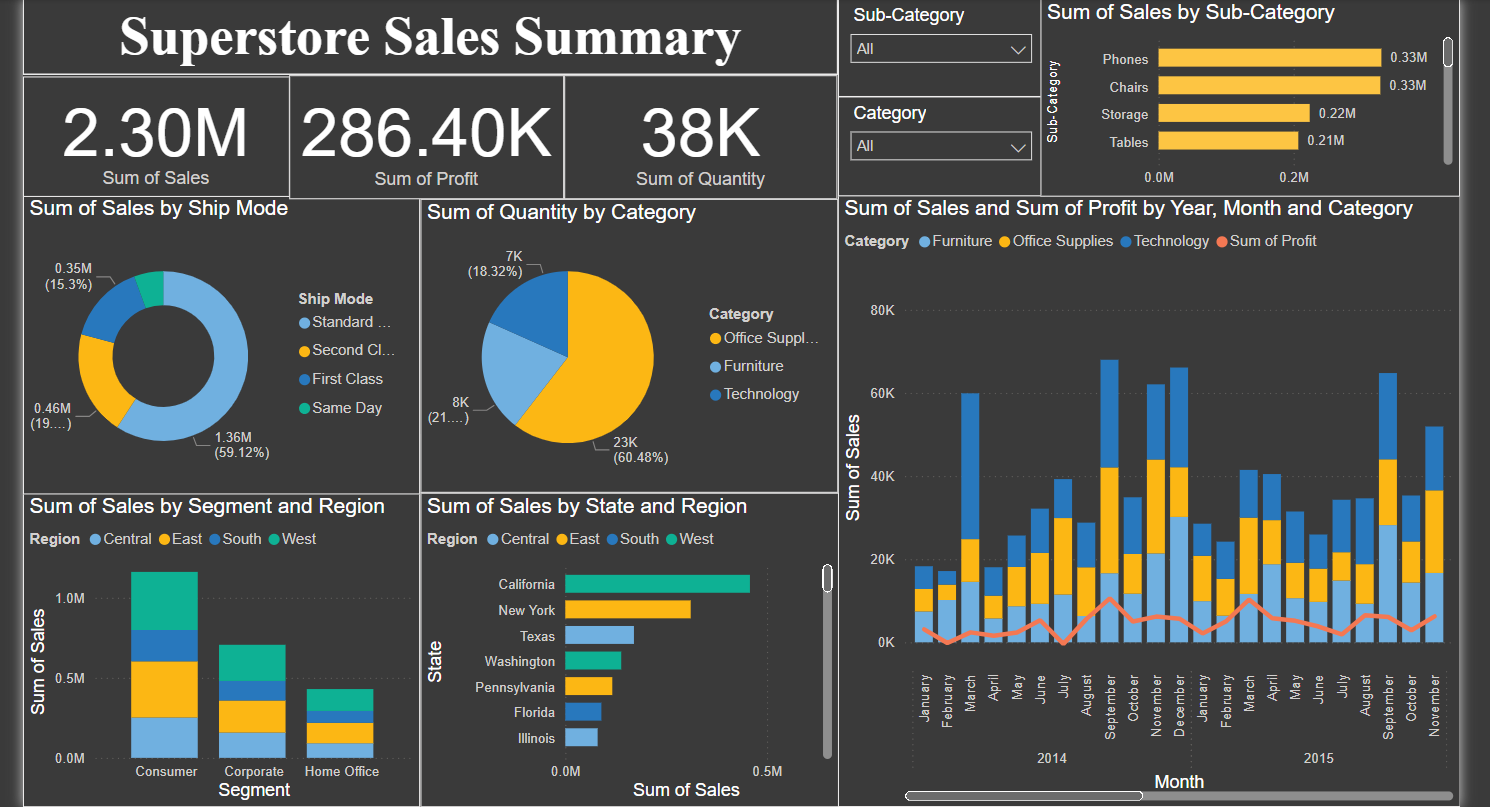

The page's visual inventory and layout, read from the dashboard file:
{"tool":"powerbi","page":{"name":"Page 1","canvas":[1280,720],"ordinal":0},"visuals":[{"type":"columnChart","fields":{"Category":["superstore(1).Segment"],"Y":["Sum(superstore(1).Sales)"],"Series":["superstore(1).Region"]},"box":[0,439.4,353.7,280.2],"z":0},{"type":"barChart","fields":{"Category":["superstore(1).State"],"Y":["Sum(superstore(1).Sales)"],"Series":["superstore(1).Region"]},"box":[353.7,439.4,373.6,280.2],"z":1000},{"type":"lineStackedColumnComboChart","fields":{"Series":["superstore(1).Category"],"Y2":["Sum(superstore(1).Profit)"],"Category":["superstore(1).Ship Date.Variation.Date Hierarchy.Year","superstore(1).Ship Date.Variation.Date Hierarchy.Month"],"Y":["Sum(superstore(1).Sales)"]},"box":[725.7,174.5,554.3,545.1],"z":2000},{"type":"donutChart","fields":{"Category":["superstore(1).Ship Mode"],"Y":["Sum(superstore(1).Sales)"]},"box":[0,174.5,353.7,266.4],"z":3000},{"type":"pieChart","fields":{"Category":["superstore(1).Category"],"Y":["Sum(superstore(1).Quantity)"]},"box":[353.7,177.6,372.1,261.8],"z":4000},{"type":"card","fields":{"Values":["Sum(superstore(1).Sales)"]},"box":[0,68.9,237.3,107.2],"z":5000},{"type":"card","fields":{"Values":["Sum(superstore(1).Profit)"]},"box":[237.3,67.4,245,110.2],"z":6000},{"type":"textbox","box":[0,0,725.7,67.4],"z":7000},{"type":"card","fields":{"Values":["Sum(superstore(1).Quantity)"]},"box":[482.3,67.4,243.4,110.2],"z":8000},{"type":"slicer","fields":{"Values":["superstore(1).Category"]},"box":[725.7,87.3,183.7,88.8],"z":9000},{"type":"slicer","fields":{"Values":["superstore(1).Sub-Category"]},"box":[725.7,0,183.7,87.3],"z":10000},{"type":"barChart","fields":{"Category":["superstore(1).Sub-Category"],"Y":["Sum(superstore(1).Sales)"]},"box":[906.4,0,373.6,176.1],"z":11000}]}

Visuals, with their boxes in screenshot pixels (x1, y1, x2, y2):
columnChart - superstore(1).Segment x Sum(superstore(1).Sales): 27, 486, 418, 795
barChart - superstore(1).State x Sum(superstore(1).Sales): 418, 486, 831, 795
lineStackedColumnComboChart - superstore(1).Category x Sum(superstore(1).Profit): 829, 193, 1442, 795
donutChart - superstore(1).Ship Mode x Sum(superstore(1).Sales): 27, 193, 418, 487
pieChart - superstore(1).Category x Sum(superstore(1).Quantity): 418, 196, 829, 486
card - Sum(superstore(1).Sales): 27, 76, 289, 195
card - Sum(superstore(1).Profit): 289, 75, 560, 196
textbox: 27, 0, 829, 75
card - Sum(superstore(1).Quantity): 560, 75, 829, 196
slicer - superstore(1).Category: 829, 97, 1032, 195
slicer - superstore(1).Sub-Category: 829, 0, 1032, 97
barChart - superstore(1).Sub-Category x Sum(superstore(1).Sales): 1029, 0, 1442, 195
